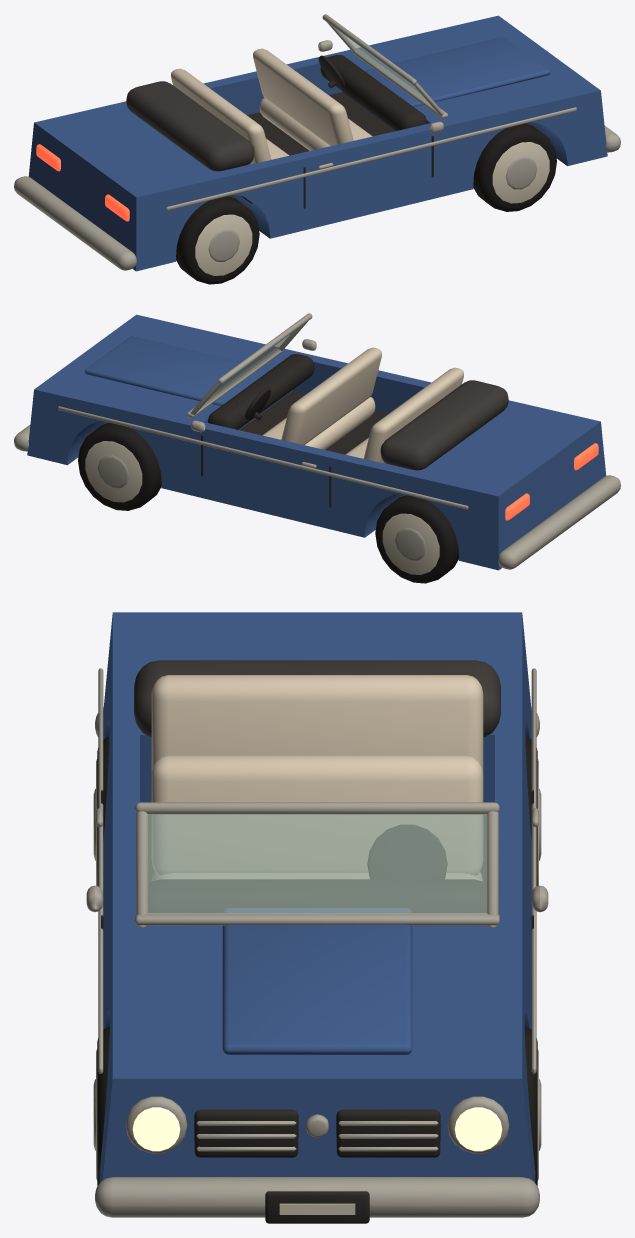
The model's file is convertible.glb.
3 renders of one model, top to bottom at view 1: azimuth 30°, elevation 25°; view 2: azimuth 150°, elevation 25°; view 3: azimuth 270°, elevation 25°, orthographic. The views are drawn at different scales.
Parts seen in each view (by area): view 1: Convertible, Convertible_Wheel_FR, Convertible_Wheel_RR; view 2: Convertible, Convertible_Wheel_FL, Convertible_Wheel_RL; view 3: Convertible, Convertible_Wheel_FL, Convertible_Wheel_FR, Convertible_Wheel_RR, Convertible_Wheel_RL.
Boxes of the visible parts, box(x1,y1,x2,y2) form: Convertible: box(14, 14, 620, 271); Convertible_Wheel_FR: box(473, 123, 556, 211); Convertible_Wheel_RR: box(176, 196, 259, 284); Convertible: box(14, 313, 620, 570); Convertible_Wheel_FL: box(78, 422, 161, 510); Convertible_Wheel_RL: box(375, 495, 458, 583); Convertible: box(86, 612, 548, 1223); Convertible_Wheel_FL: box(524, 1026, 541, 1185); Convertible_Wheel_FR: box(93, 1026, 109, 1185); Convertible_Wheel_RR: box(93, 736, 109, 885); Convertible_Wheel_RL: box(525, 736, 541, 885).
Bounding box in the file's own units: 4.93 × 1.39 × 1.95.
